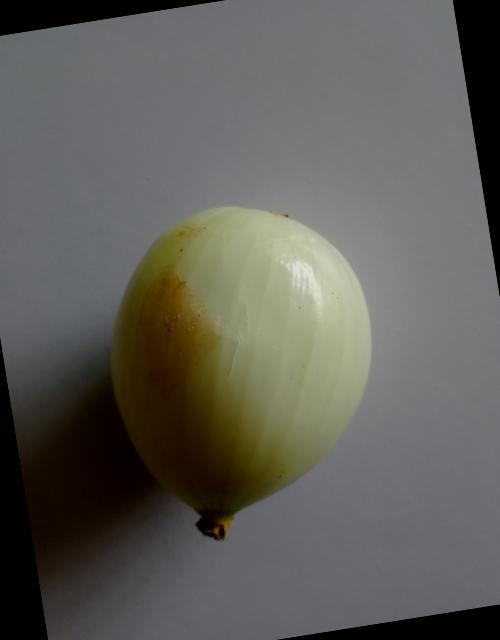Cebolla-: (57, 176, 444, 573)
